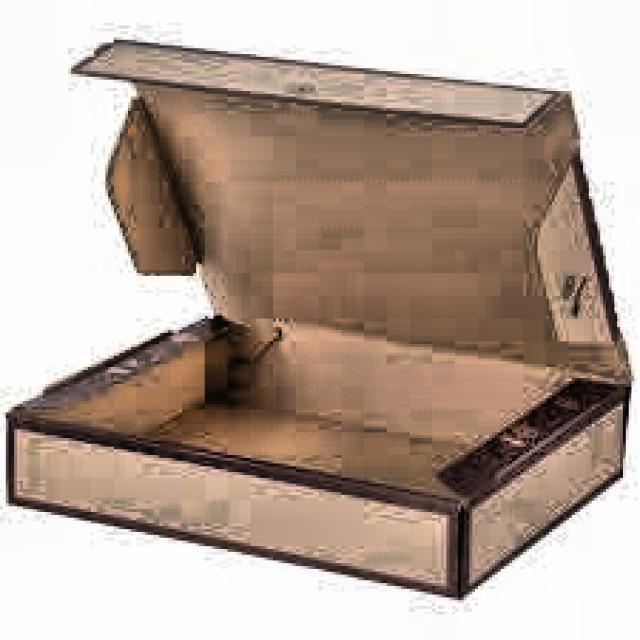cardboard: (2, 34, 634, 597)
